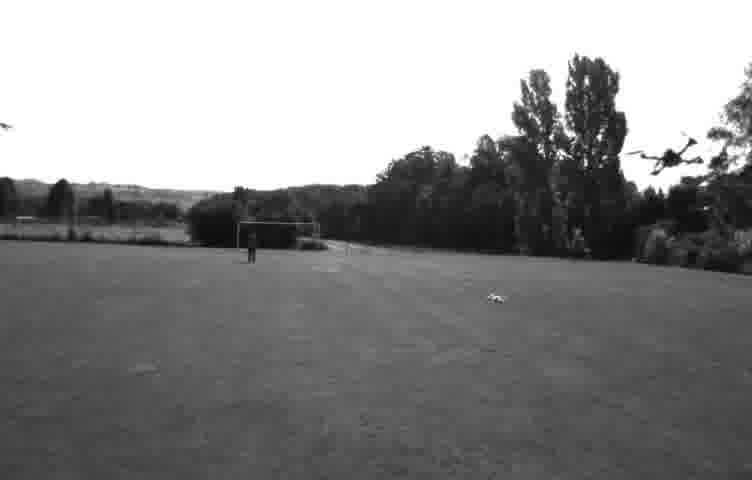drone: (621, 136, 708, 179)
